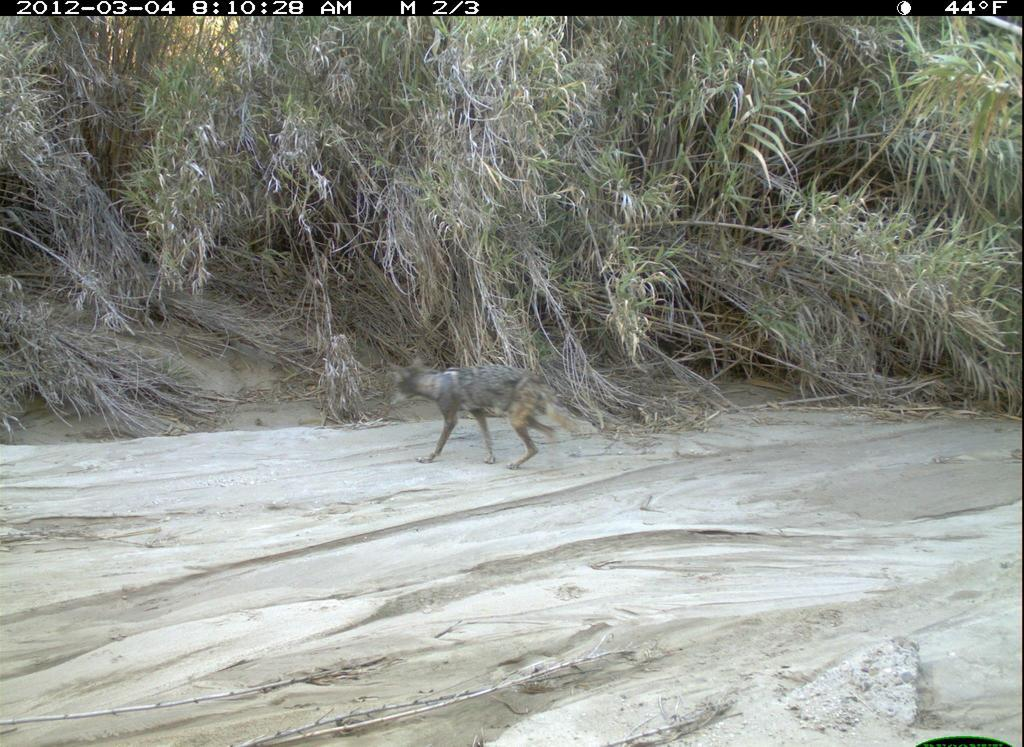coyote: (388, 345, 574, 474)
